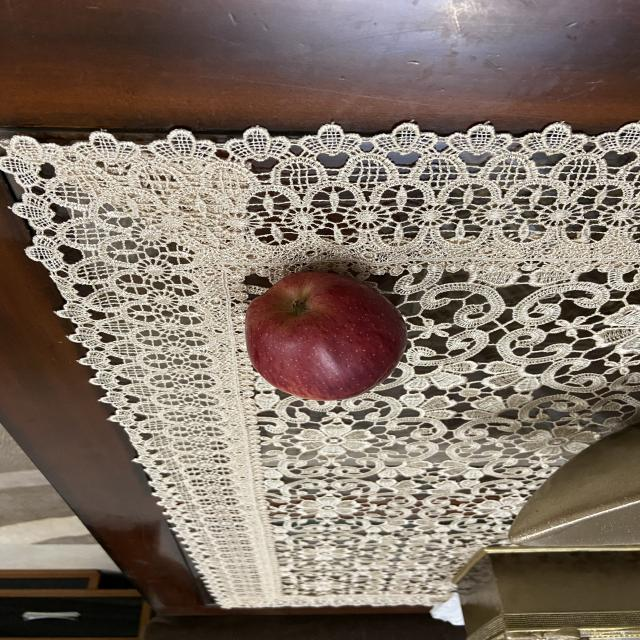apple: (239, 268, 406, 402)
